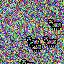sheep: (25, 35, 40, 47), (28, 41, 43, 52), (47, 19, 62, 30), (43, 36, 57, 47), (21, 58, 35, 64)
